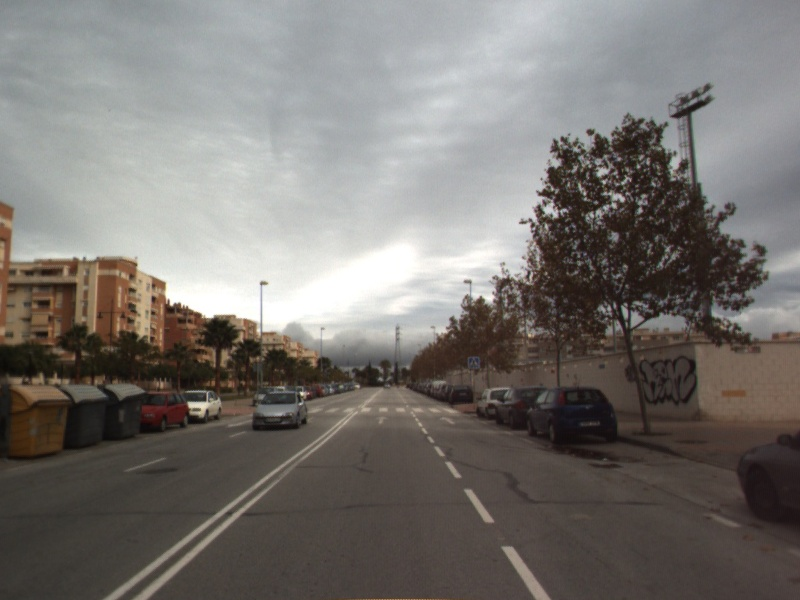STRAIGHT: (438, 414, 458, 426), (374, 414, 391, 426)
